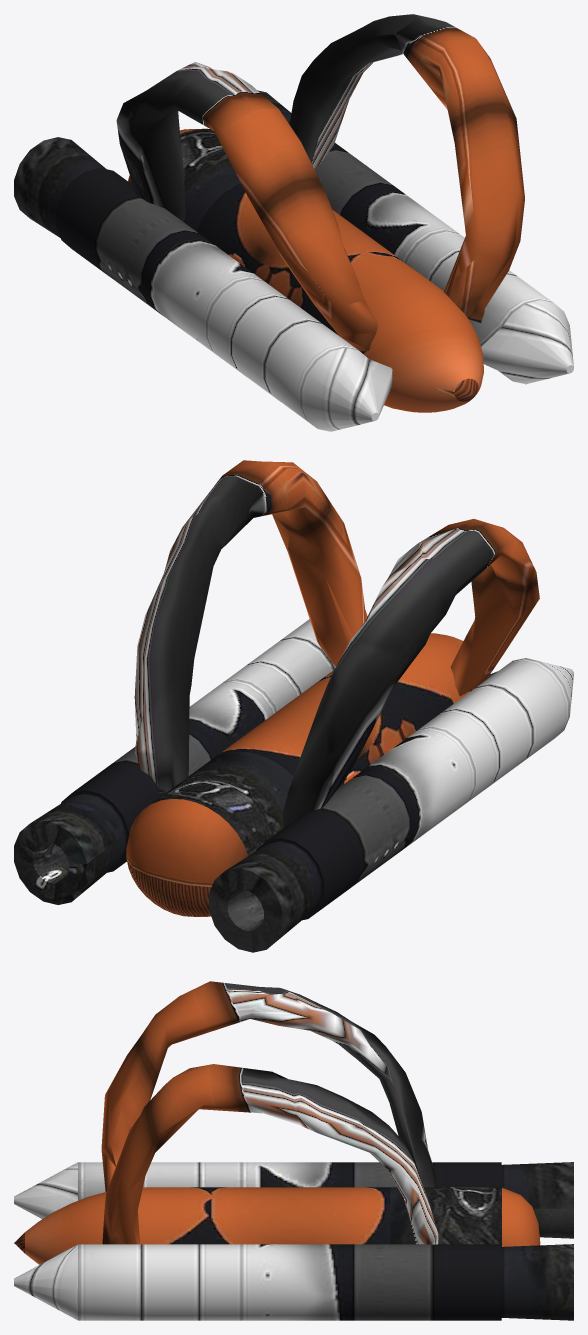
File: Jetpack.glb
The picture shows the model from 3 angles, top to bottom: view 1: azimuth 30°, elevation 25°; view 2: azimuth 150°, elevation 25°; view 3: azimuth 270°, elevation 25°; orthographic projection. The views are drawn at different scales.
Parts seen in each view (by area): view 1: Jetpack; view 2: Jetpack; view 3: Jetpack.
Part boxes in pixels (x1,y1,x2,y2): Jetpack: [14, 14, 573, 431]; Jetpack: [14, 460, 573, 952]; Jetpack: [14, 981, 573, 1320].
Size of the model in its own units: 4.45 by 4.79 by 8.91.
2 materials, 2 textured.
